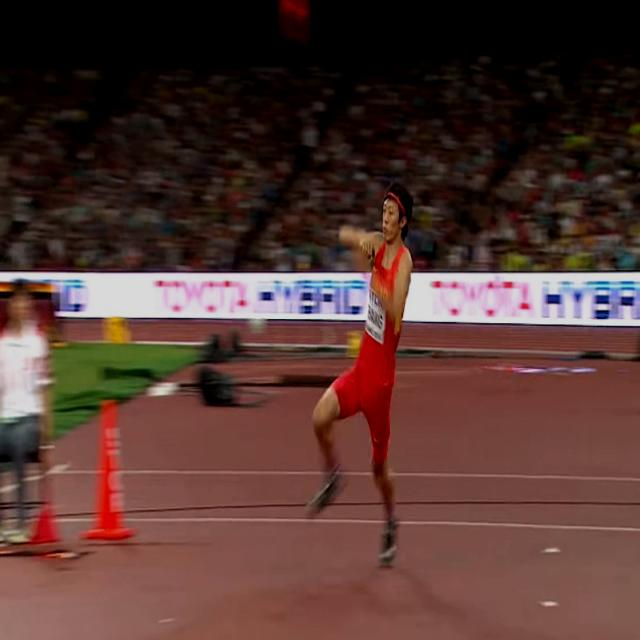run: (306, 178, 412, 570)
